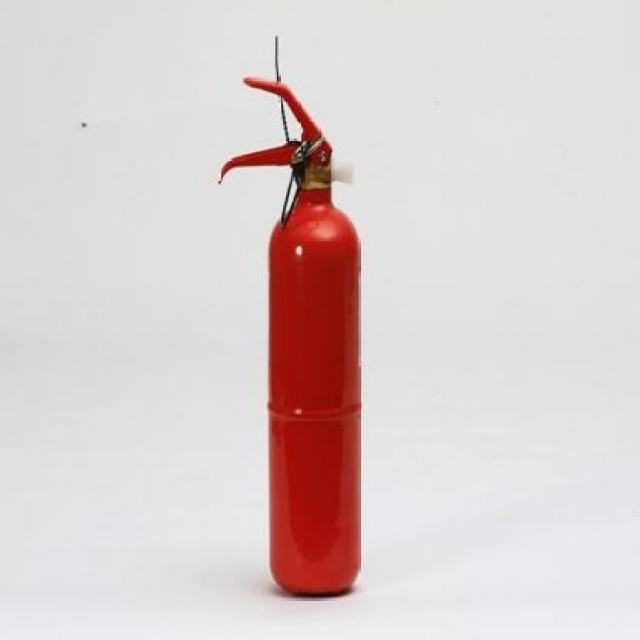fire extinguisher: (217, 74, 361, 595)
